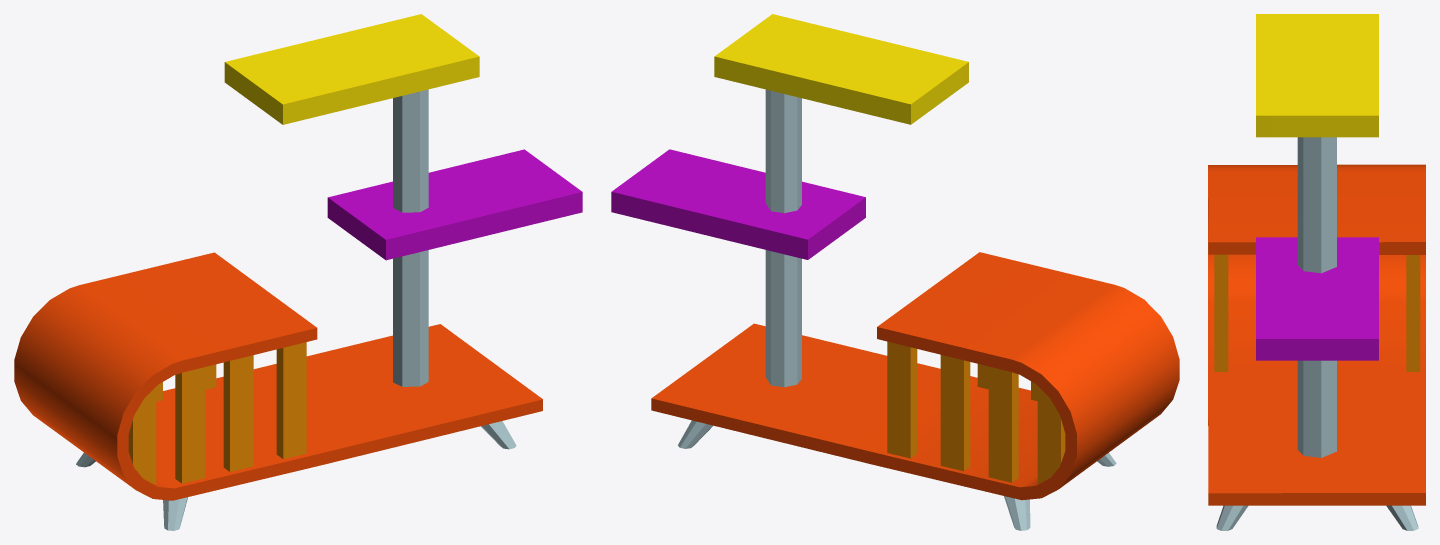
The model's file is tool shelf.fbx.
The picture shows the model from 3 angles, left to right: view 1: azimuth 30°, elevation 25°; view 2: azimuth 150°, elevation 25°; view 3: azimuth 270°, elevation 25°; orthographic projection. The views are drawn at different scales.
Parts seen in each view (by area): view 1: tool shelf; view 2: tool shelf; view 3: tool shelf.
Boxes of the visible parts, left/top/right/bottom form: tool shelf: left=14, top=14, right=582, bottom=530; tool shelf: left=611, top=14, right=1179, bottom=530; tool shelf: left=1208, top=14, right=1425, bottom=530.
Bounding box in the file's own units: 117 × 87.13 × 42.48.
